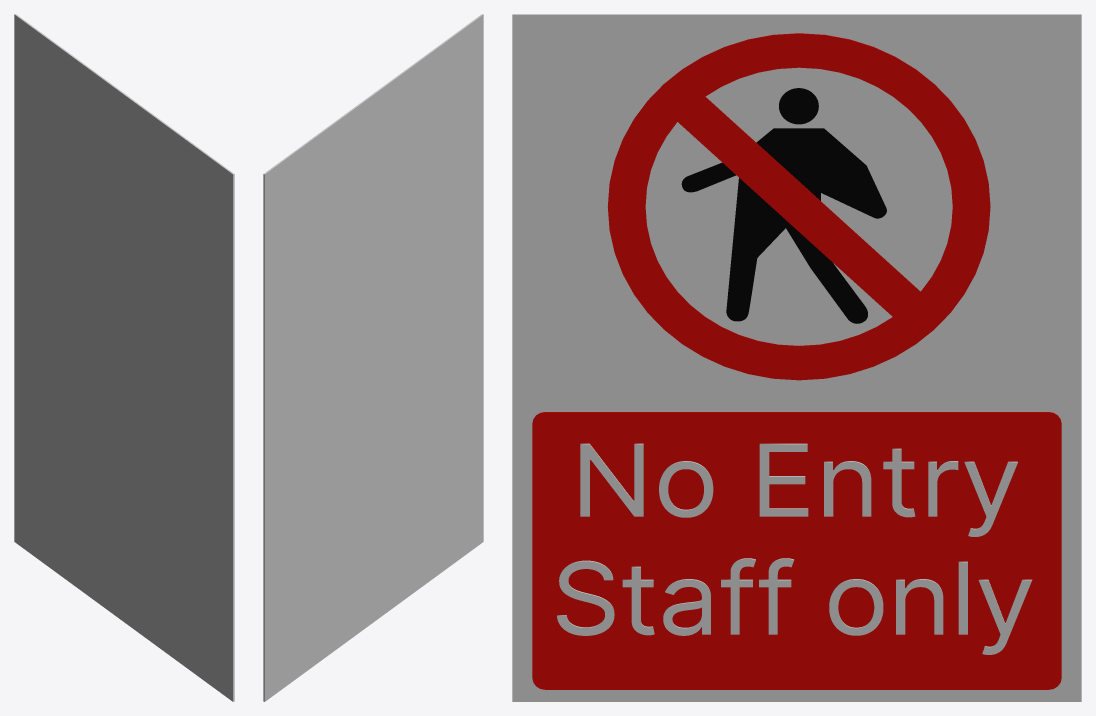
Rendered from no entrance sign.fbx.
The picture shows the model from 3 angles, left to right: view 1: azimuth 30°, elevation 25°; view 2: azimuth 150°, elevation 25°; view 3: azimuth 270°, elevation 25°; orthographic projection. The views are drawn at different scales.
Parts seen in each view (by area): view 1: Plane.003; view 2: Plane.003; view 3: Plane.003, Plane.004, BézierCircle.001, BézierCircle.003, Text.003, Text.002.
Boxes of the visible parts, x1=… form: Plane.003: x1=14, y1=14, x2=234, y2=701; Plane.003: x1=263, y1=14, x2=483, y2=701; Plane.003: x1=512, y1=14, x2=1081, y2=701; Plane.004: x1=532, y1=412, x2=1061, y2=689; BézierCircle.001: x1=607, y1=33, x2=990, y2=380; BézierCircle.003: x1=681, y1=88, x2=886, y2=323; Text.003: x1=557, y1=558, x2=1032, y2=654; Text.002: x1=580, y1=443, x2=1017, y2=536.
Bounding box in the file's own units: 0.1686 × 25.73 × 19.33.
